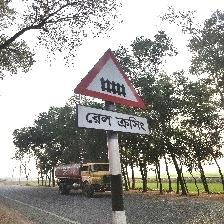Rail-crossing: (74, 48, 150, 136)
